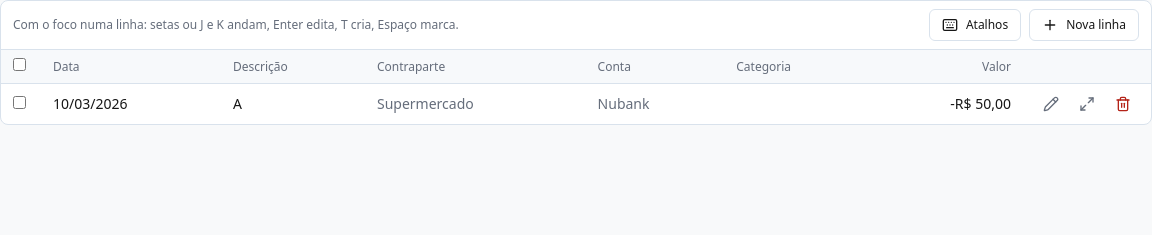
o erro some quando o campo e corrigido
This screenshot has width=1152, height=235.
Click the button "Nova linha" at point(1084, 25), box x1=1029 y1=9 x2=1139 y2=41
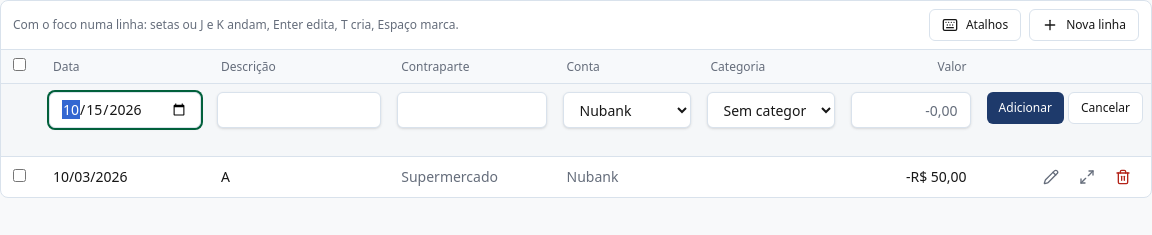
Type "Padaria" into the field named "Descrição" at point(299, 110), box x1=217 y1=92 x2=381 y2=128
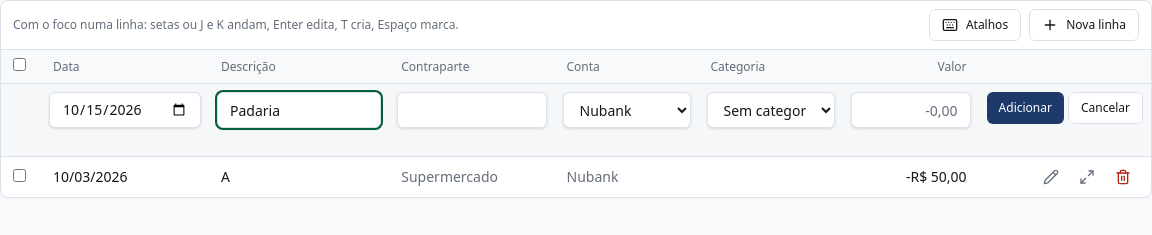
Press Enter
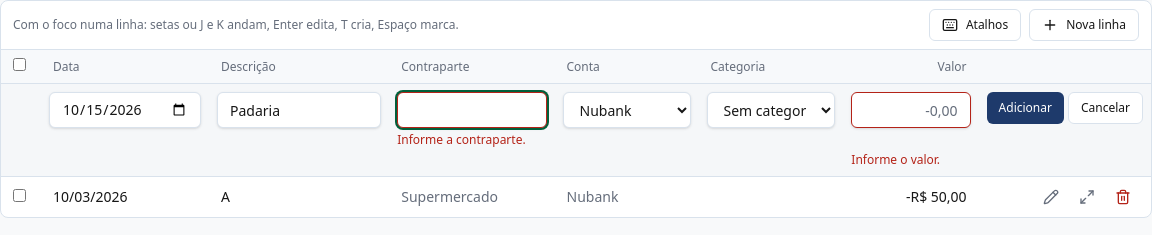
Result: the text "Informe a contraparte." is shown at x1=397 y1=132 x2=547 y2=148
Type "Z" into the field named "Contraparte" at point(472, 110), box x1=397 y1=92 x2=547 y2=128
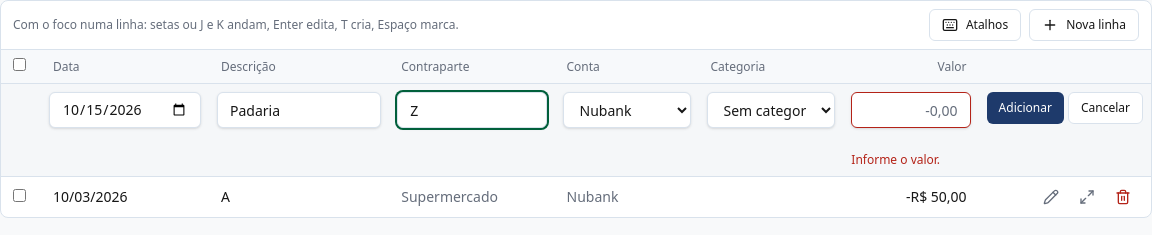
Result: the text "Informe a contraparte." is gone
